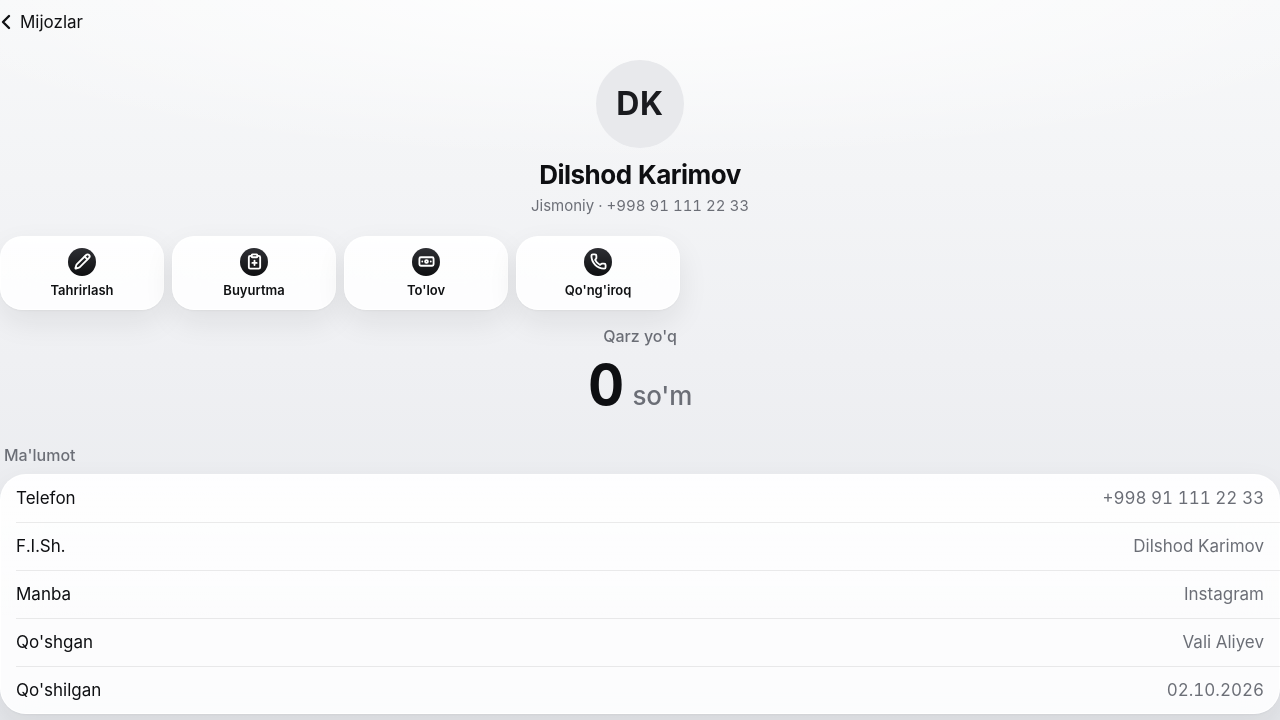
Scenario: the dialog opens with the customer as it is now, whatever was typed and left before
The width and height of the screenshot is (1280, 720).
Click the button "Tahrirlash" at (82, 273), box [0, 236, 164, 310]
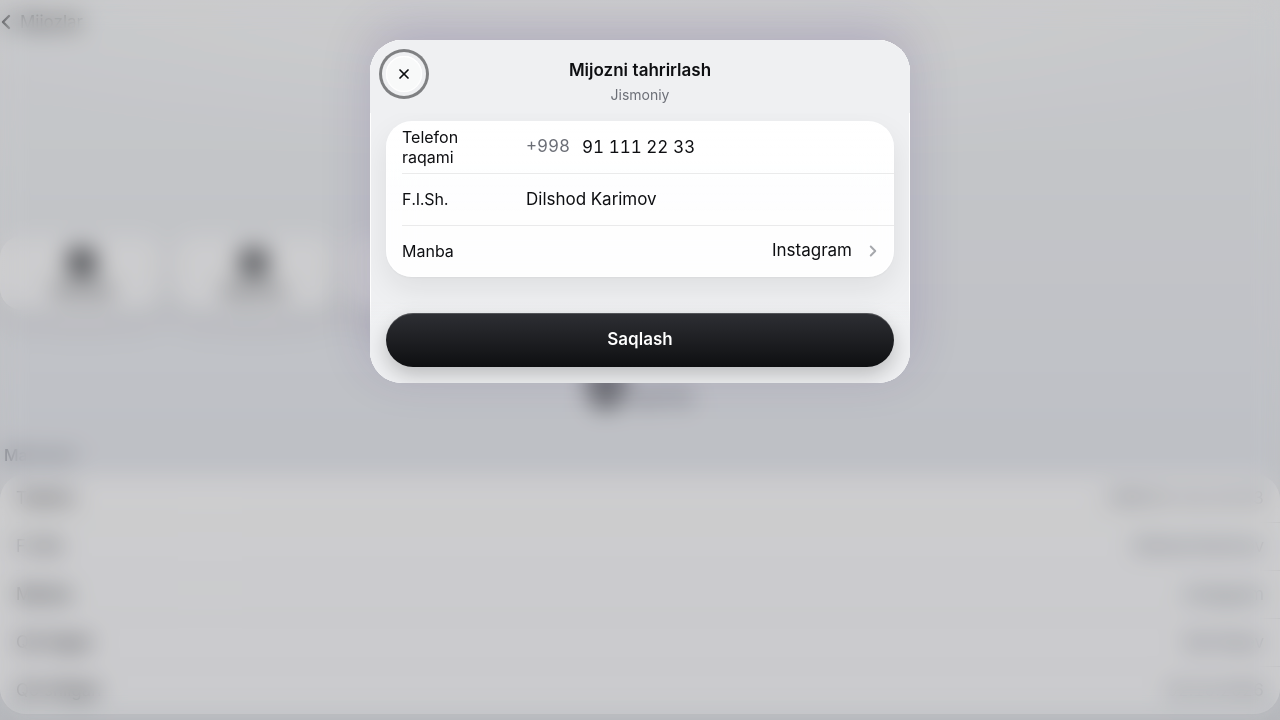
Type " tashlab ketilgan" into the field labelled "F.I.Sh." at (702, 198), box [526, 176, 878, 220]
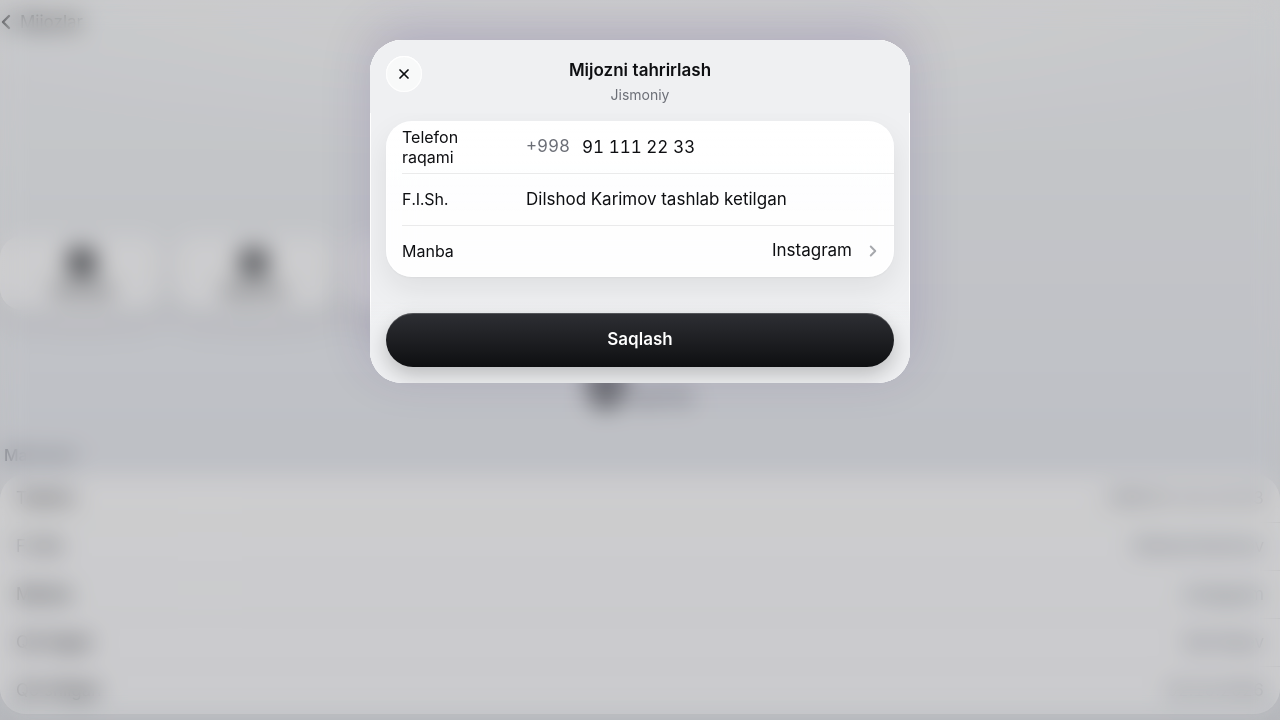
Press Escape
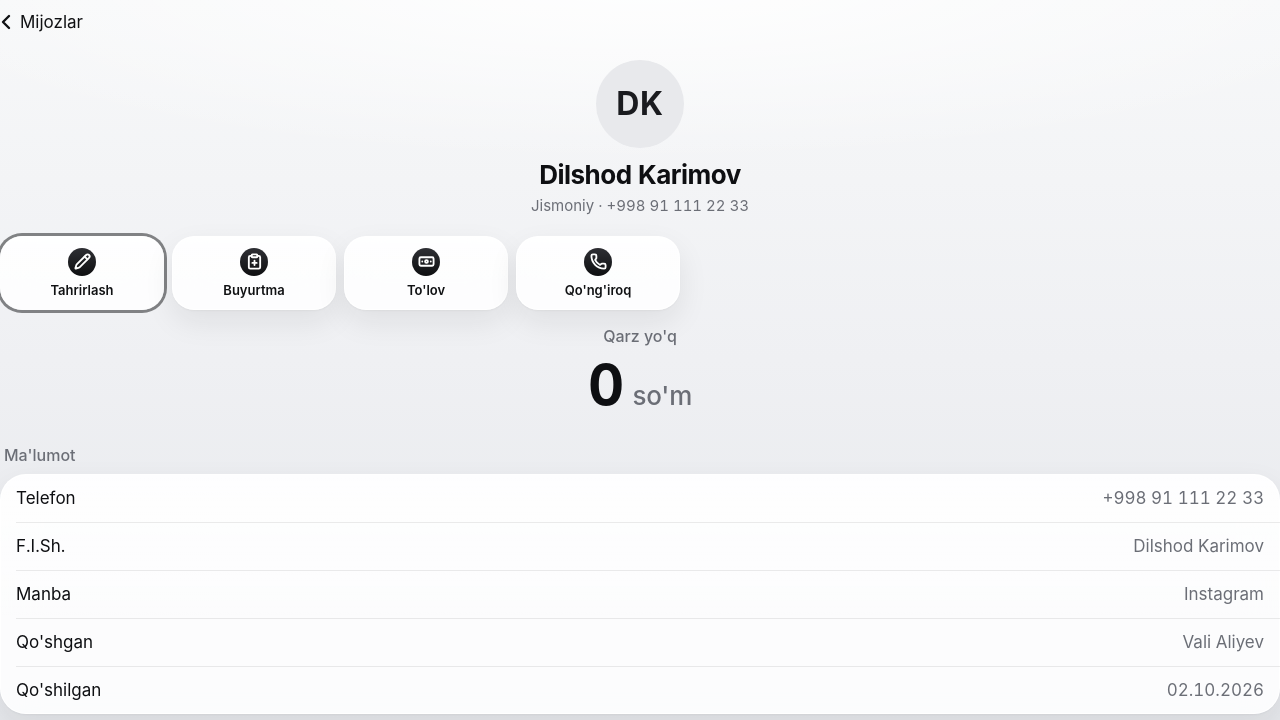
Expected: the dialog is gone
Click the button "Tahrirlash" at (82, 273), box [0, 236, 164, 310]
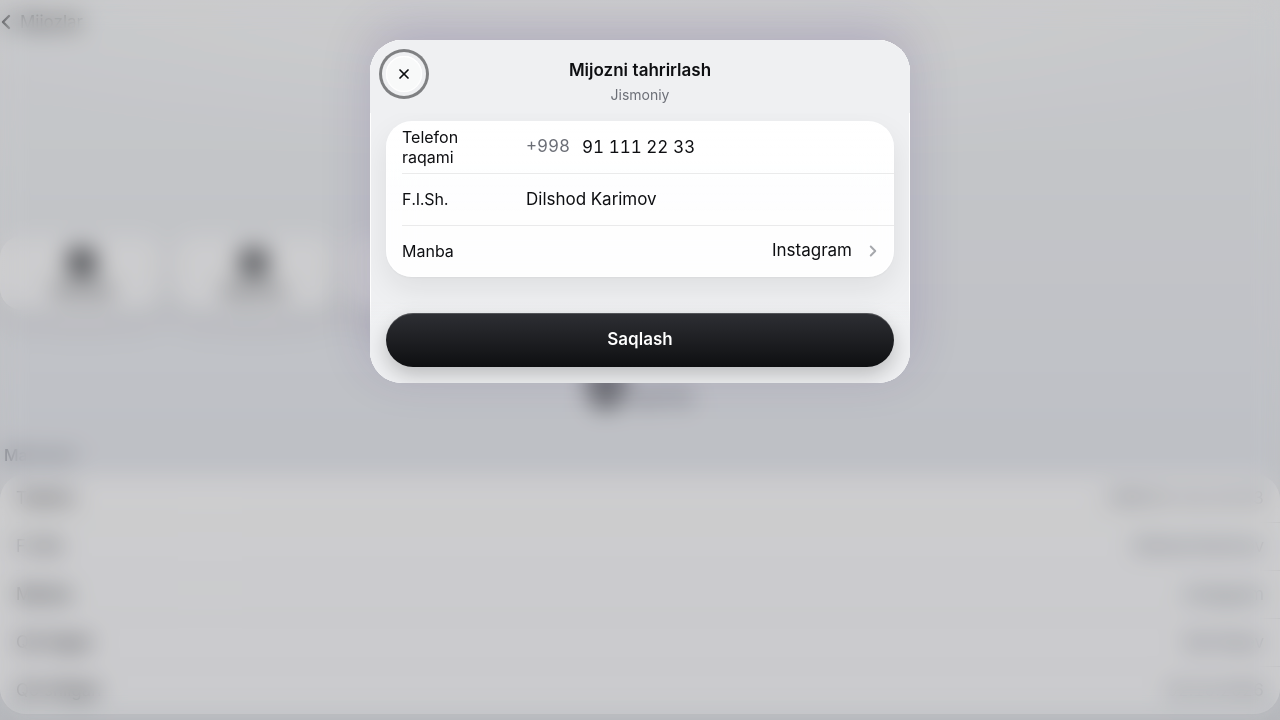
Expected: the field labelled "F.I.Sh." holds "Dilshod Karimov", [526, 176, 878, 220]
